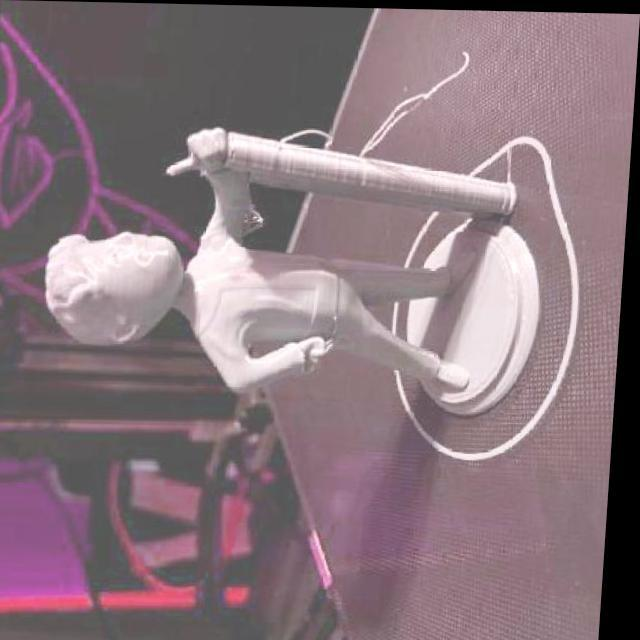spaghetti: (356, 44, 471, 159), (277, 125, 334, 148), (238, 198, 268, 236)
